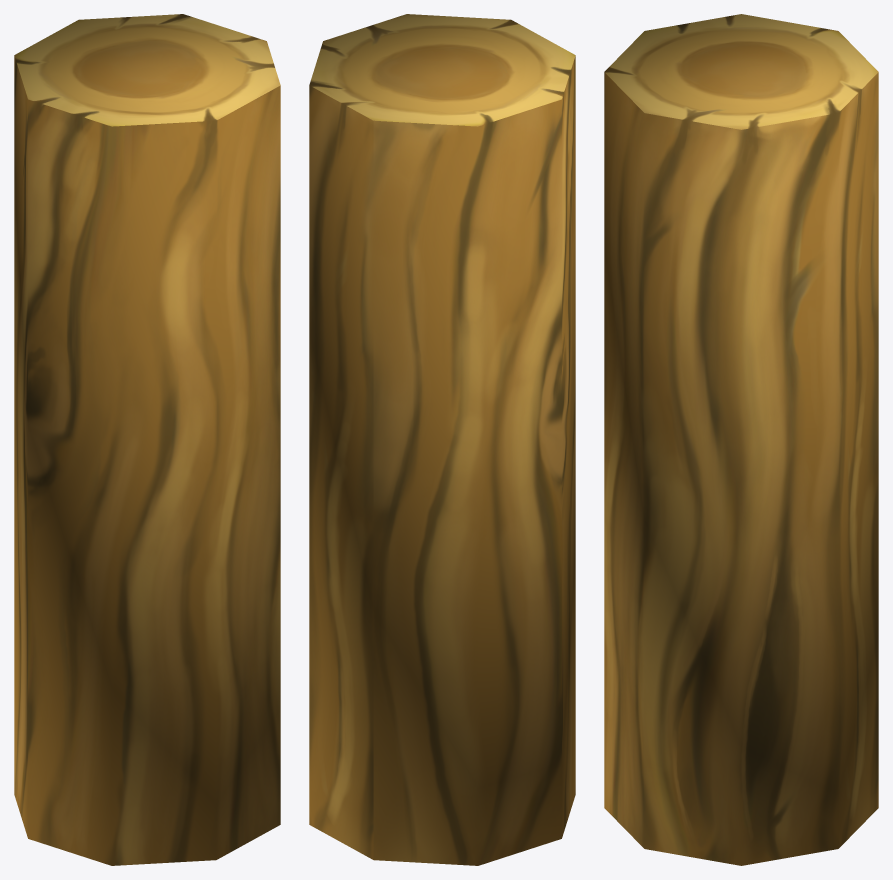
File: tronco.fbx
The picture shows the model from 3 angles, left to right: view 1: azimuth 30°, elevation 25°; view 2: azimuth 150°, elevation 25°; view 3: azimuth 270°, elevation 25°; orthographic projection.
Visible parts, largest first — view 1: Cylinder; view 2: Cylinder; view 3: Cylinder.
Boxes of the visible parts, x1,y1,x2,y2 form: Cylinder: (14, 14, 280, 865); Cylinder: (309, 14, 575, 865); Cylinder: (604, 14, 878, 865).
Size of the model in its own units: 67.6 by 200 by 67.6.
Materials: 1 (1 with a texture image).
